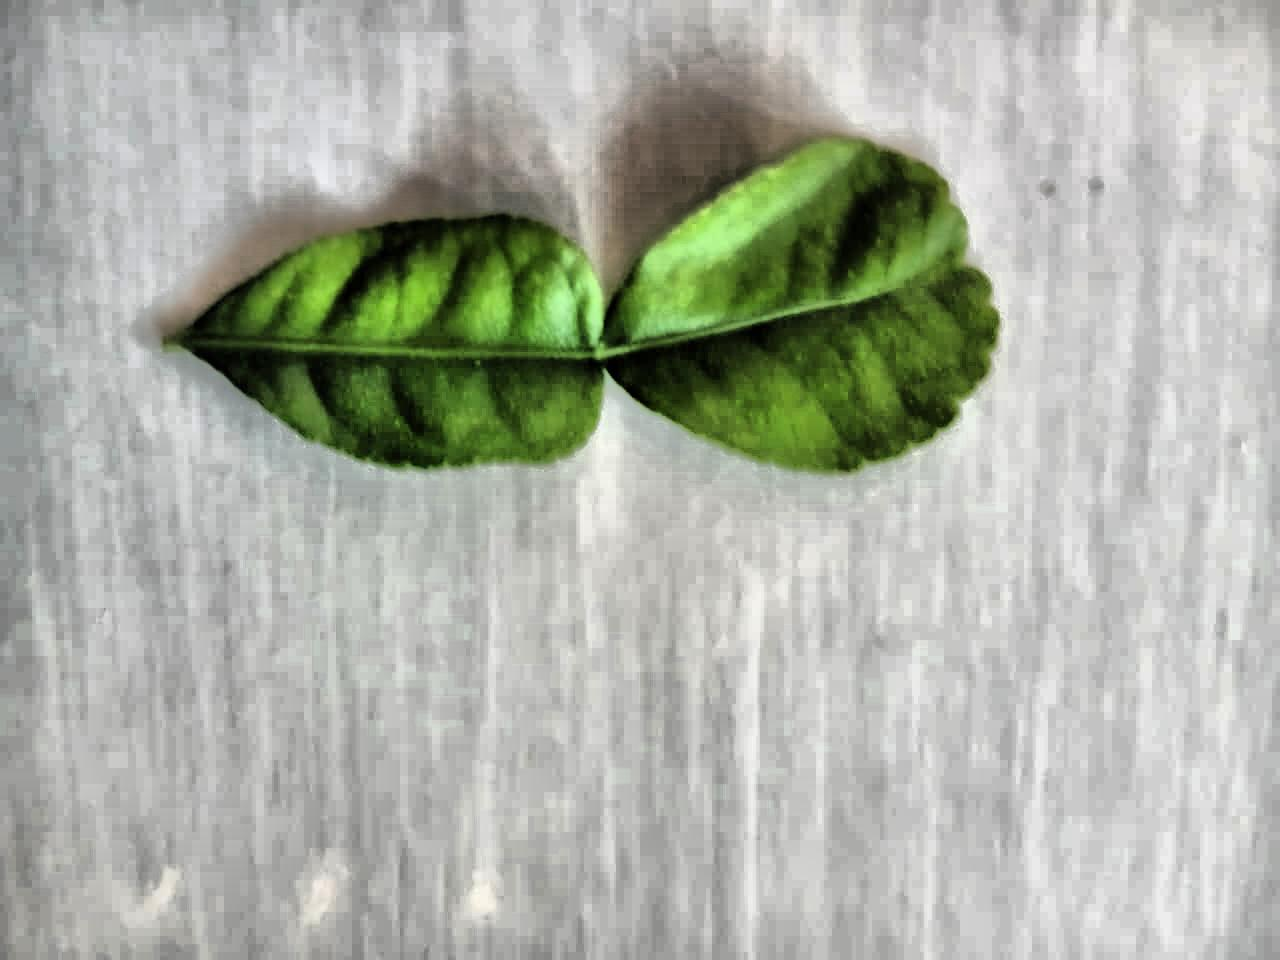daun jeruk: (166, 136, 1000, 474)
